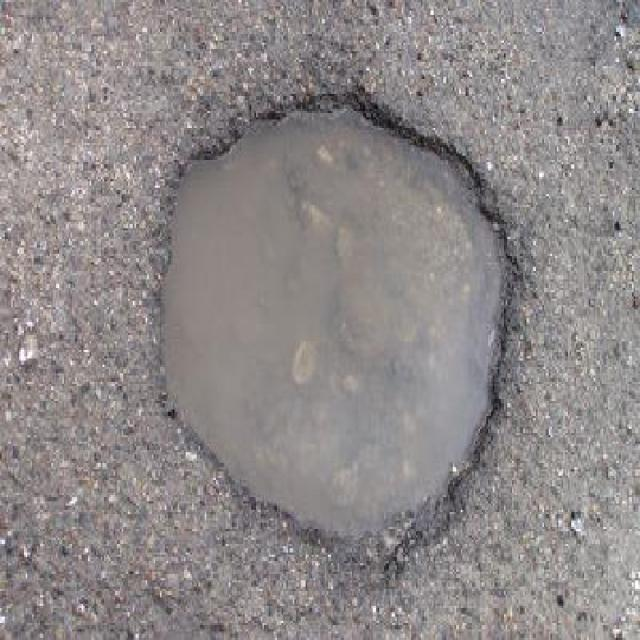Pothole: (152, 82, 525, 579)
